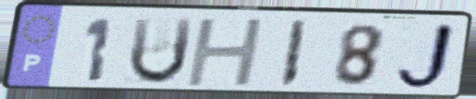1: (83, 16, 113, 84)
8: (331, 22, 386, 89)
H: (183, 16, 268, 89)
I: (276, 18, 310, 90)
J: (392, 20, 459, 94)
U: (125, 16, 197, 87)
